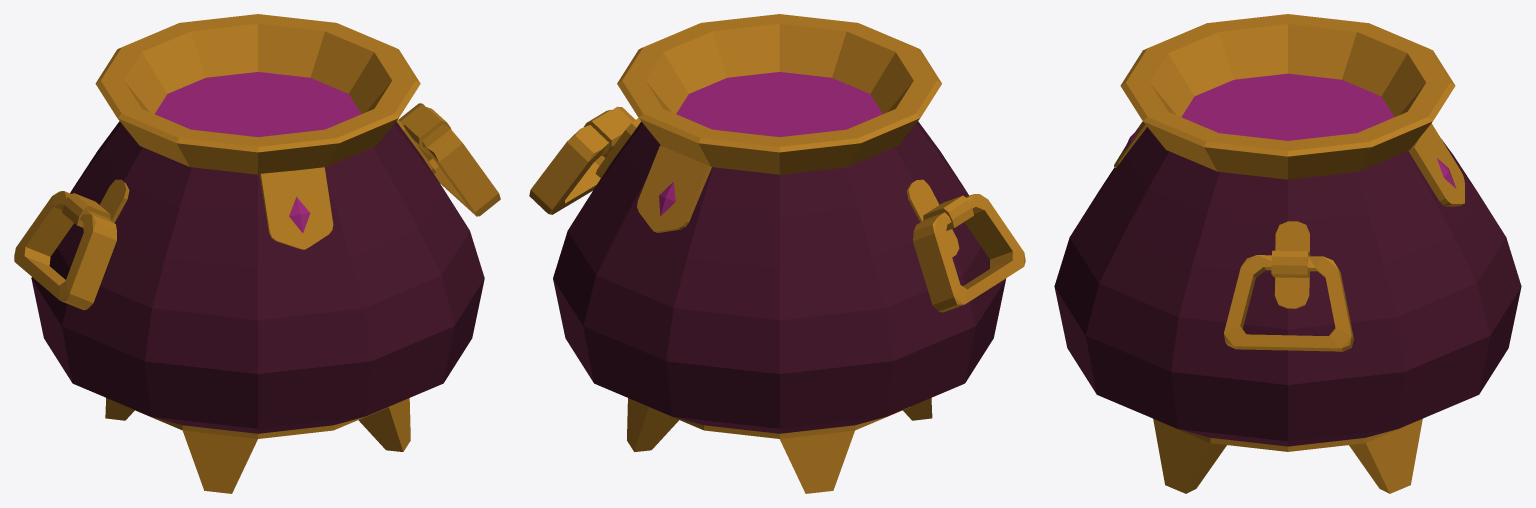
The model's file is Caldeirao.fbx.
3 views of the same model, side by side, from view 1: azimuth 30°, elevation 25°; view 2: azimuth 150°, elevation 25°; view 3: azimuth 270°, elevation 25° (orthographic). The views are drawn at different scales.
Parts seen in each view (by area): view 1: Caldeirao; view 2: Caldeirao; view 3: Caldeirao.
Part boxes in pixels (x1,y1,x2,y2): Caldeirao: (14,14,500,493); Caldeirao: (529,14,1025,493); Caldeirao: (1054,14,1521,493).
Bounding box in the file's own units: 132 × 99.89 × 117.
